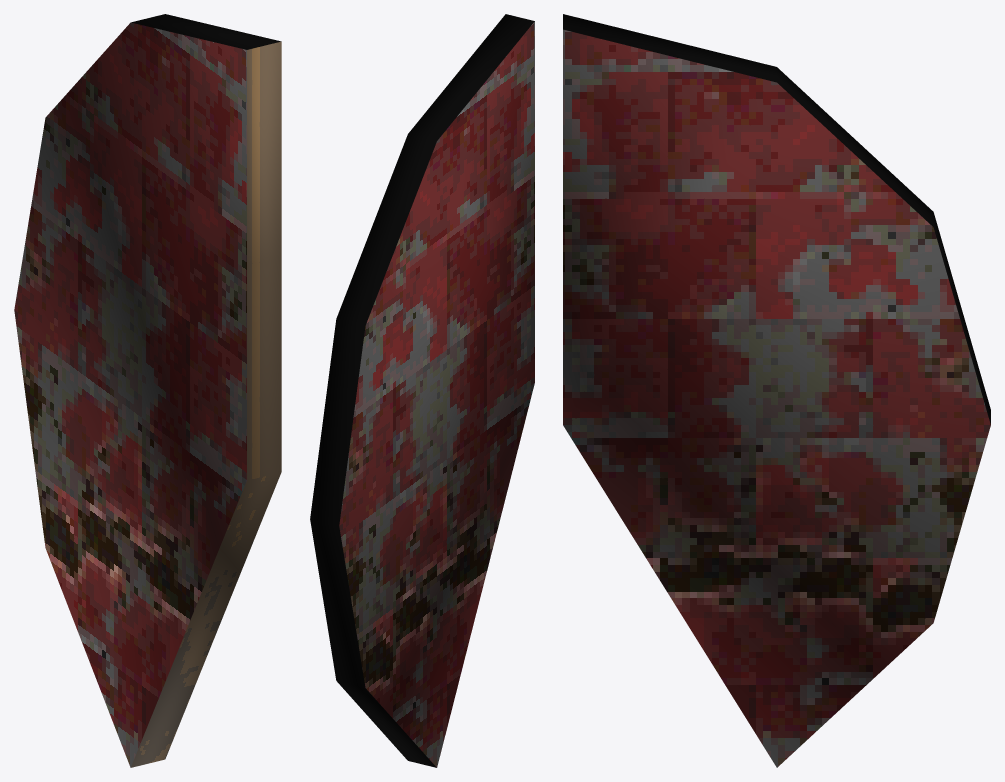
Rendered from Cylinder_red_side1_door-col.glb.
3 views of the same model, side by side, from view 1: azimuth 30°, elevation 25°; view 2: azimuth 150°, elevation 25°; view 3: azimuth 270°, elevation 25° (orthographic). The views are drawn at different scales.
Parts seen in each view (by area): view 1: Cylinder_red_side1_door-col; view 2: Cylinder_red_side1_door-col; view 3: Cylinder_red_side1_door-col.
Part boxes in pixels (x1=…): Cylinder_red_side1_door-col: x1=14, y1=14, x2=281, y2=767; Cylinder_red_side1_door-col: x1=310, y1=14, x2=534, y2=767; Cylinder_red_side1_door-col: x1=563, y1=14, x2=990, y2=767.
Size of the model in its own units: 0.1537 by 3.4 by 1.79.
Materials: 1 (1 with a texture image).
